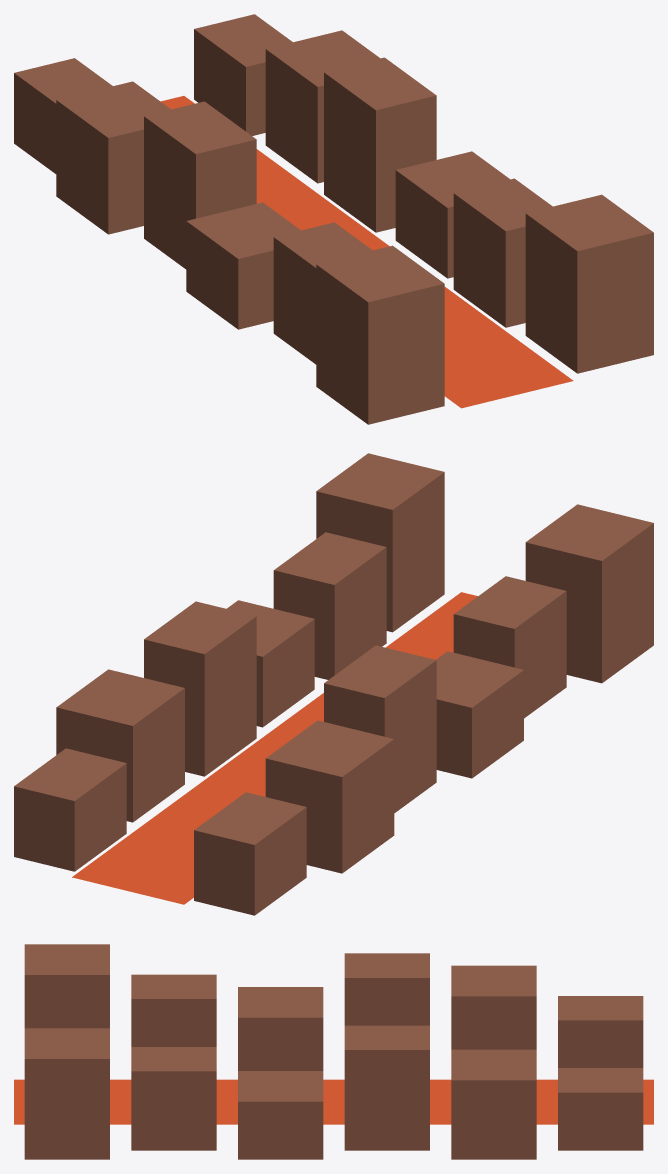
Rendered from lubiak_freak_street_2_ultralight.glb.
The picture shows the model from 3 angles, top to bottom: view 1: azimuth 30°, elevation 25°; view 2: azimuth 150°, elevation 25°; view 3: azimuth 270°, elevation 25°; orthographic projection. The views are drawn at different scales.
Parts seen in each view (by area): view 1: Freak Street 2 building 1 5, Freak Street 2 building -1 5, Freak Street 2 building 1 2, Freak Street 2 building -1 2, Freak Street 2 road, Freak Street 2 building -1 1, Freak Street 2 building 1 4, Freak Street 2 building -1 3, Freak Street 2 building 1 1, Freak Street 2 building 1 0, Freak Street 2 building 1 3, Freak Street 2 building -1 4 (+1 smaller); view 2: Freak Street 2 building -1 5, Freak Street 2 road, Freak Street 2 building -1 1, Freak Street 2 building 1 5, Freak Street 2 building 1 2, Freak Street 2 building 1 1, Freak Street 2 building 1 4, Freak Street 2 building -1 2, Freak Street 2 building -1 0, Freak Street 2 building 1 0, Freak Street 2 building -1 4, Freak Street 2 building -1 3 (+1 smaller); view 3: Freak Street 2 building 1 5, Freak Street 2 building 1 2, Freak Street 2 building 1 1, Freak Street 2 building 1 4, Freak Street 2 building 1 3, Freak Street 2 building -1 1, Freak Street 2 building -1 5, Freak Street 2 building -1 3, Freak Street 2 building 1 0, Freak Street 2 building -1 2, Freak Street 2 building -1 4, Freak Street 2 building -1 0 (+1 smaller).
Part boxes in pixels (left/top/right/bottom): Freak Street 2 building 1 5: left=525, top=194, right=653, bottom=373; Freak Street 2 building -1 5: left=316, top=245, right=444, bottom=424; Freak Street 2 building 1 2: left=324, top=57, right=436, bottom=232; Freak Street 2 building -1 2: left=144, top=101, right=256, bottom=269; Freak Street 2 road: left=160, top=96, right=573, bottom=408; Freak Street 2 building -1 1: left=56, top=81, right=170, bottom=234; Freak Street 2 building 1 4: left=453, top=178, right=552, bottom=327; Freak Street 2 building -1 3: left=186, top=202, right=300, bottom=329; Freak Street 2 building 1 1: left=265, top=30, right=380, bottom=183; Freak Street 2 building 1 0: left=194, top=14, right=292, bottom=135; Freak Street 2 building 1 3: left=395, top=151, right=509, bottom=278; Freak Street 2 building -1 4: left=273, top=222, right=372, bottom=364; Freak Street 2 building -1 5: left=525, top=504, right=653, bottom=683; Freak Street 2 road: left=72, top=592, right=477, bottom=904; Freak Street 2 building -1 1: left=265, top=720, right=394, bottom=873; Freak Street 2 building 1 5: left=316, top=453, right=444, bottom=632; Freak Street 2 building 1 2: left=144, top=601, right=256, bottom=776; Freak Street 2 building 1 1: left=56, top=669, right=184, bottom=822; Freak Street 2 building 1 4: left=273, top=532, right=386, bottom=679; Freak Street 2 building -1 2: left=324, top=645, right=436, bottom=813; Freak Street 2 building -1 0: left=194, top=792, right=306, bottom=915; Freak Street 2 building 1 0: left=14, top=748, right=126, bottom=871; Freak Street 2 building -1 4: left=453, top=576, right=566, bottom=718; Freak Street 2 building -1 3: left=436, top=651, right=523, bottom=778; Freak Street 2 building 1 5: left=24, top=1028, right=109, bottom=1159; Freak Street 2 building 1 2: left=344, top=1025, right=429, bottom=1150; Freak Street 2 building 1 1: left=451, top=1049, right=536, bottom=1159; Freak Street 2 building 1 4: left=131, top=1047, right=216, bottom=1150; Freak Street 2 building 1 3: left=238, top=1071, right=323, bottom=1159; Freak Street 2 building -1 1: left=451, top=965, right=536, bottom=1049; Freak Street 2 building -1 5: left=24, top=944, right=109, bottom=1028; Freak Street 2 building -1 3: left=238, top=987, right=323, bottom=1070; Freak Street 2 building 1 0: left=558, top=1068, right=643, bottom=1150; Freak Street 2 building -1 2: left=344, top=953, right=429, bottom=1025; Freak Street 2 building -1 4: left=131, top=974, right=216, bottom=1046; Freak Street 2 building -1 0: left=558, top=996, right=643, bottom=1067.
Size of the model in its own units: 25.4 by 10.4 by 60.
